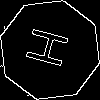H: (25, 25, 79, 72)
